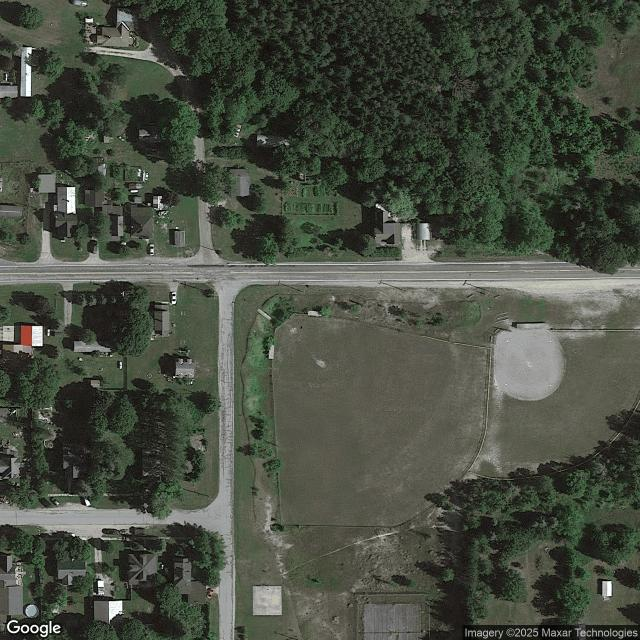Propane: (119, 361, 123, 370), (130, 190, 138, 193), (47, 329, 50, 337), (5, 74, 7, 81)
